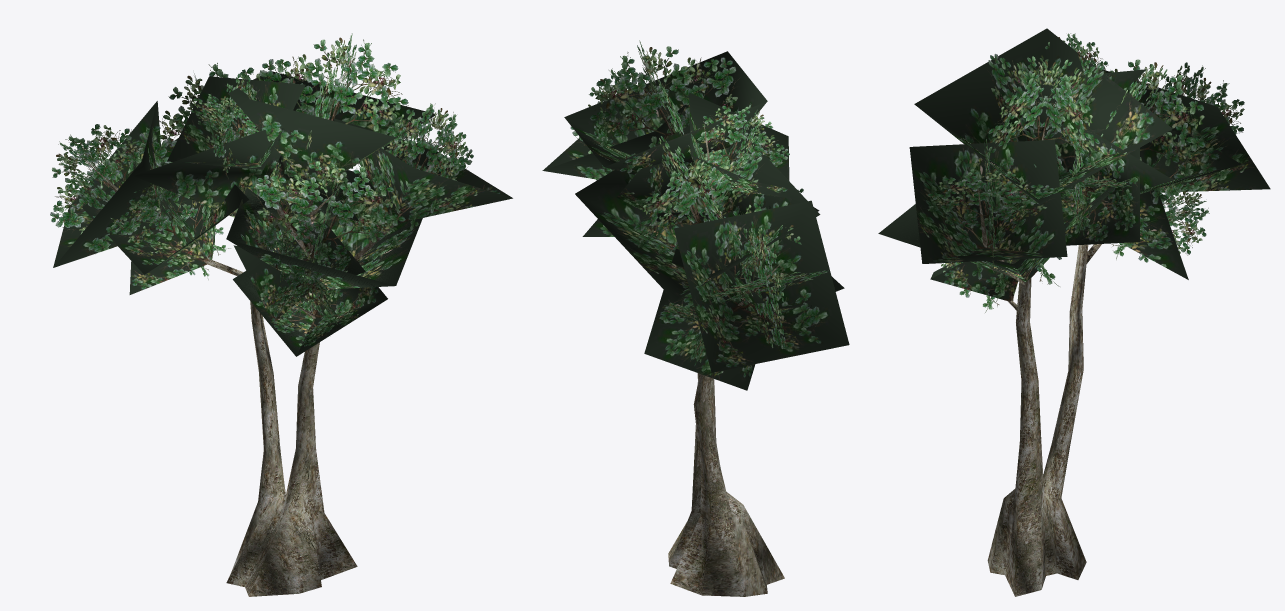
File: decd_hollytreeleaves_l0.fbx
3 renders of one model, left to right at view 1: azimuth 30°, elevation 25°; view 2: azimuth 150°, elevation 25°; view 3: azimuth 270°, elevation 25°, orthographic. The views are drawn at different scales.
Parts seen in each view (by area): view 1: mesh_node; view 2: mesh_node; view 3: mesh_node.
Part boxes in pixels (<box>): mesh_node: <box>50,33,512,596</box>; mesh_node: <box>542,40,849,596</box>; mesh_node: <box>878,28,1270,596</box>.
Size of the model in its own units: 13.1 by 18.3 by 11.57.
